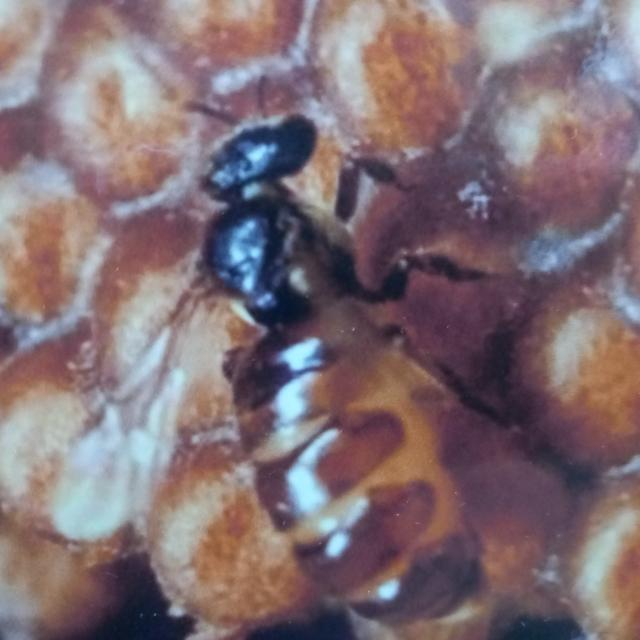honeybee: (195, 121, 494, 622)
